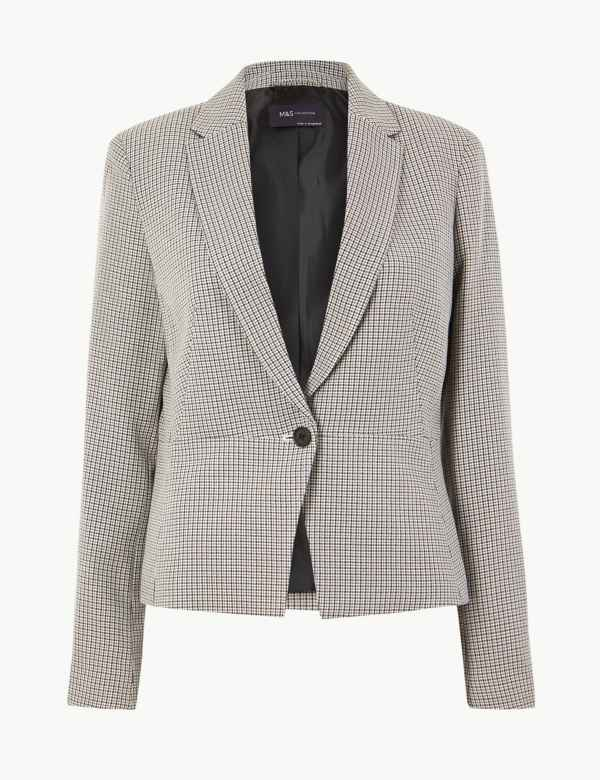F_W_suit jacket: (62, 77, 549, 707)
